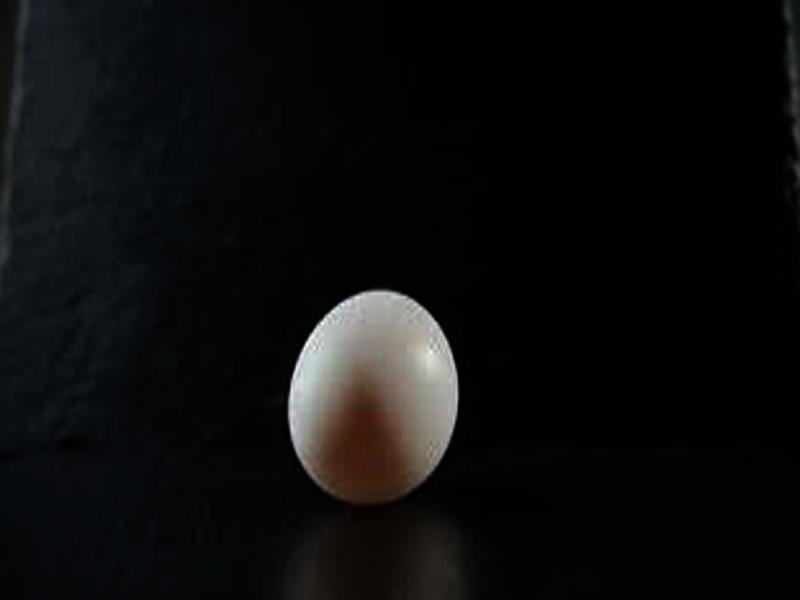Eggs: (286, 283, 457, 504)
